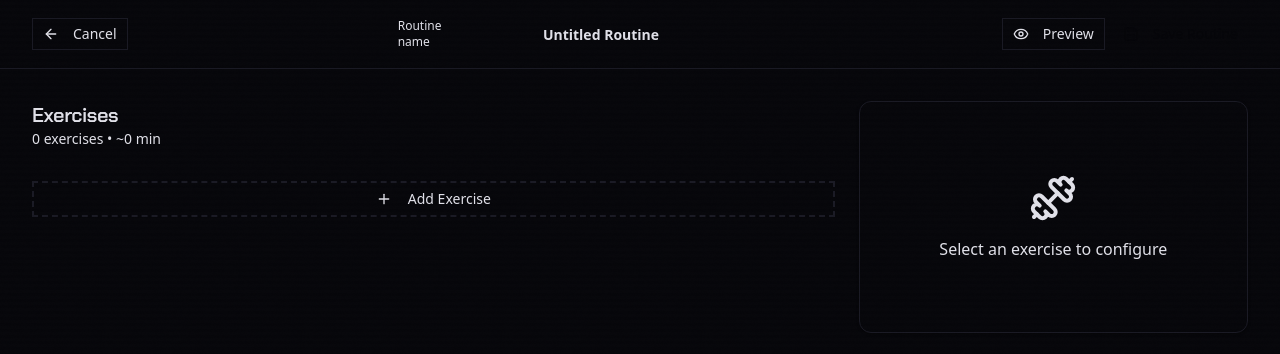
RoutineBuilder › shows unsaved changes indicator after editing the name
Step 1. Type " v2" into the field showing "Untitled Routine" → (601, 34), box [470,16,732,52]
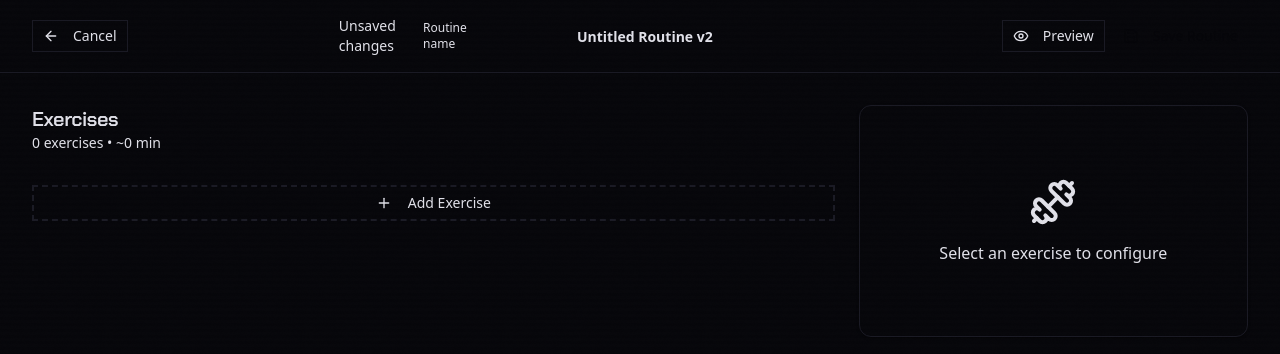
Expected: the text "Unsaved changes" is shown, [339,16,396,55]
